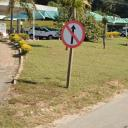NoSeguir: (59, 20, 86, 48)
